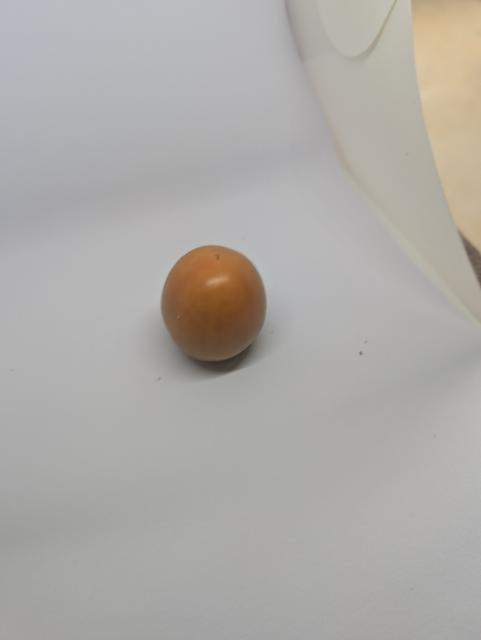turning: (155, 243, 269, 366)
